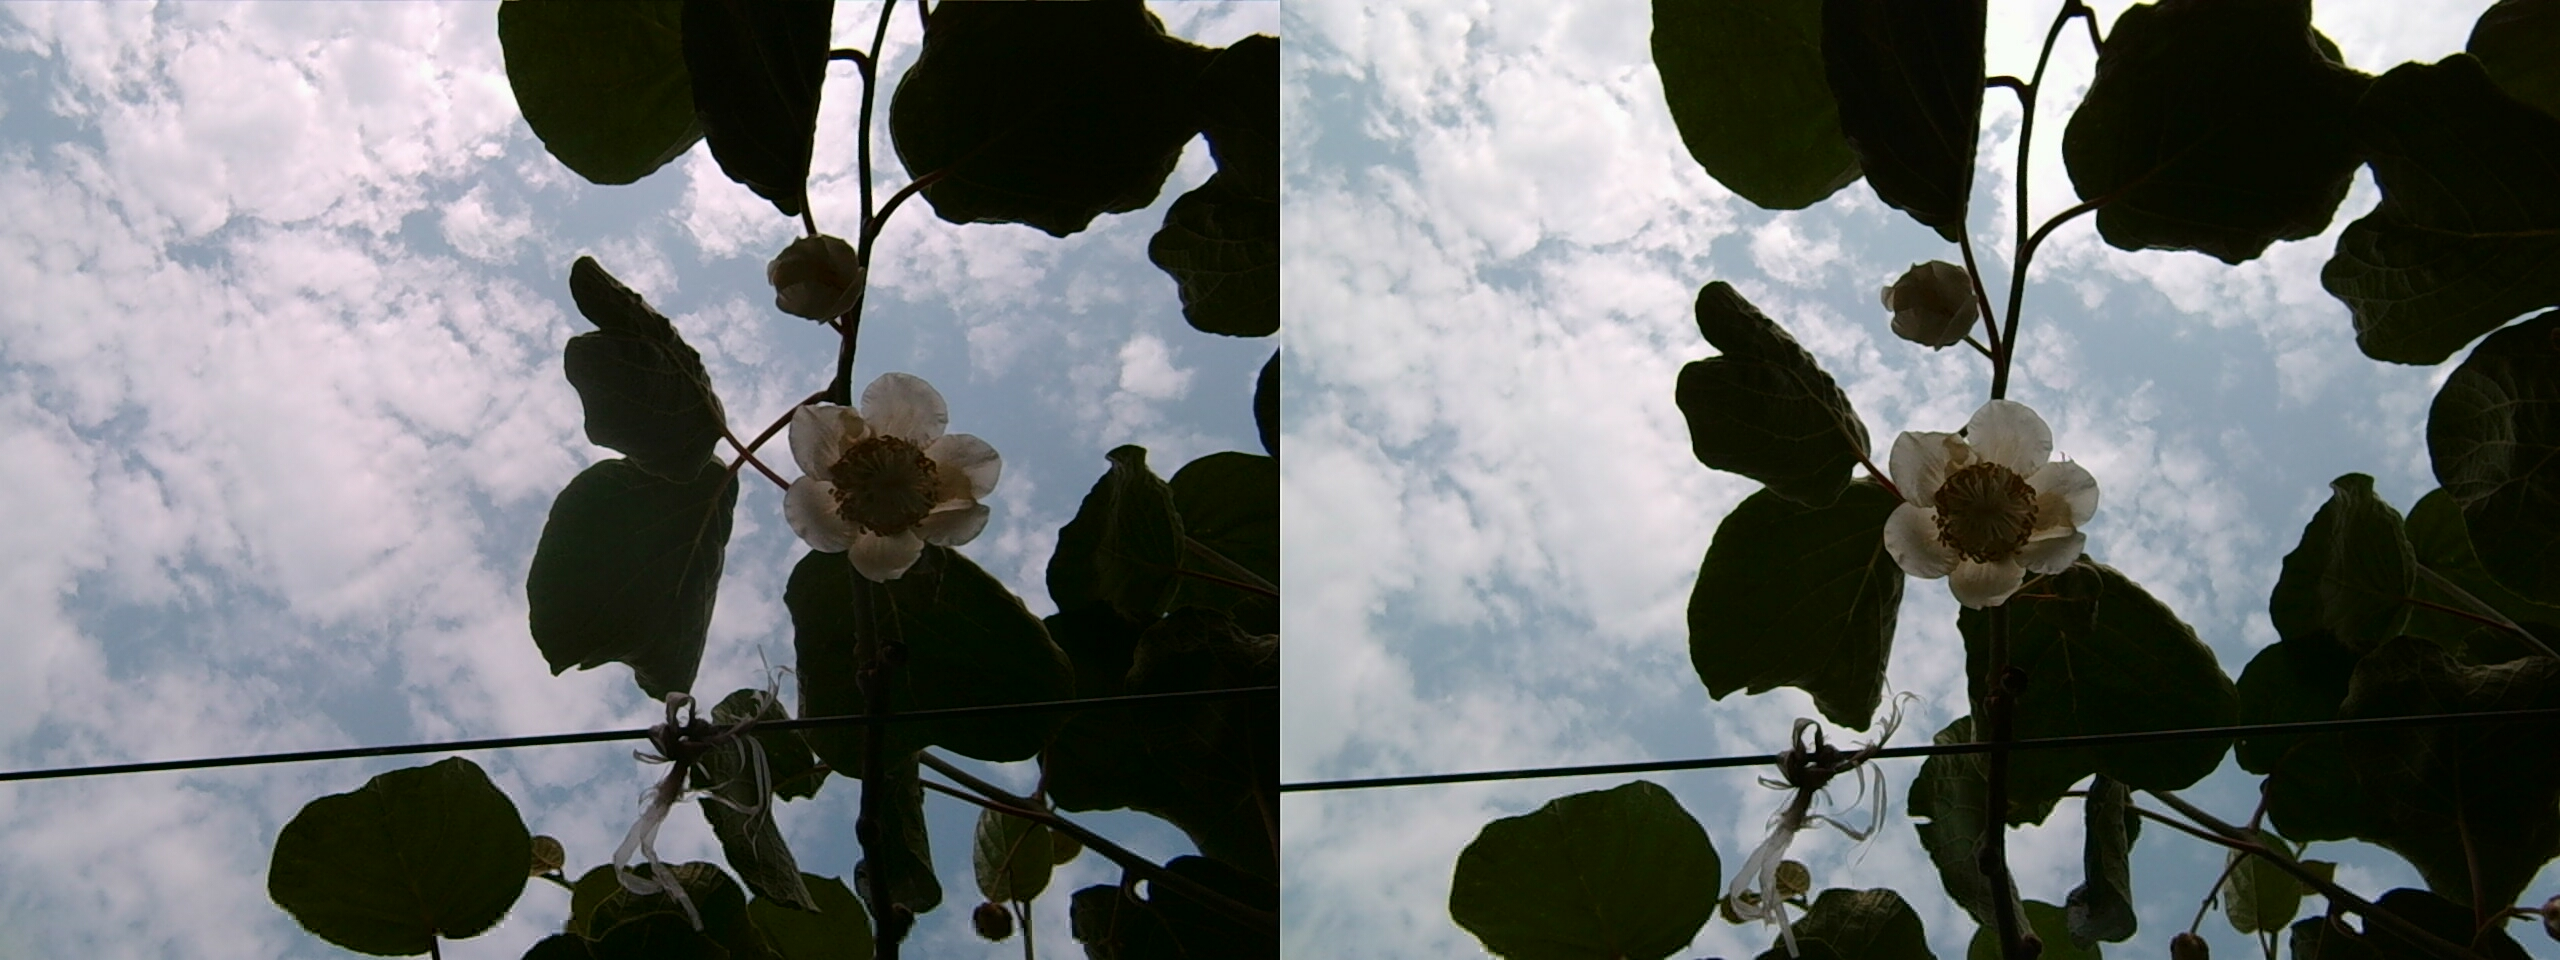flower: (767, 366, 999, 570), (1873, 390, 2095, 599)
